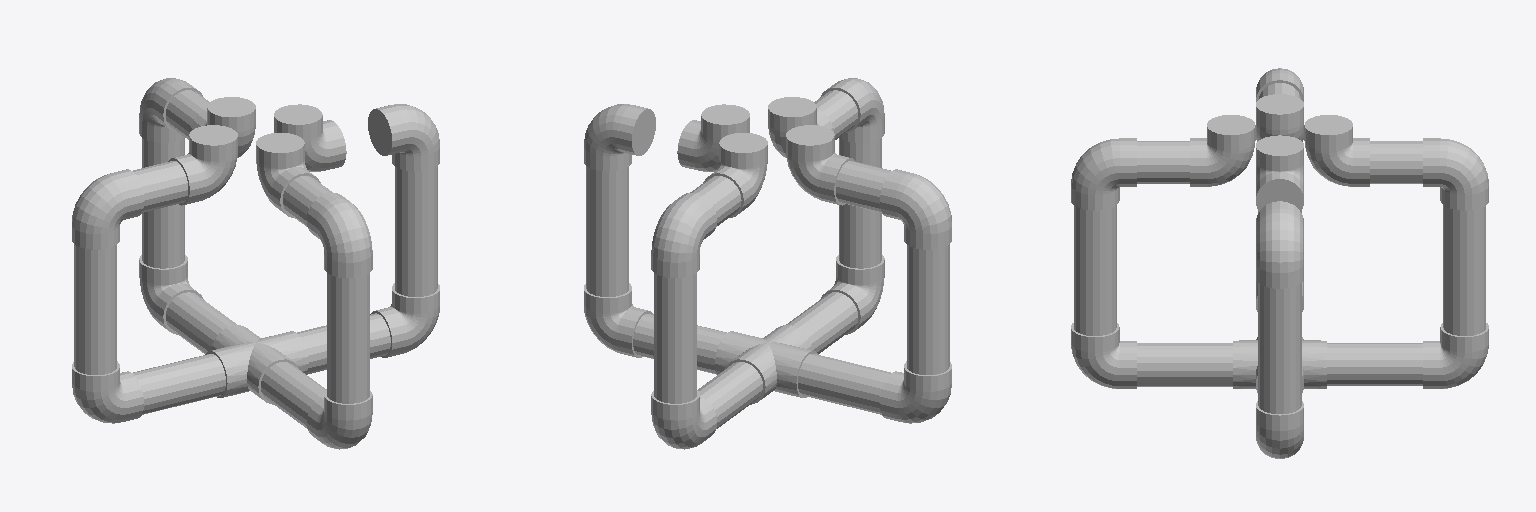
File: Garlic_bez_zabka.obj
3 renders of one model, left to right at view 1: azimuth 30°, elevation 25°; view 2: azimuth 150°, elevation 25°; view 3: azimuth 270°, elevation 25°, orthographic.
Visible parts, largest first — view 1: Bryła1; view 2: Bryła1; view 3: Bryła1.
Part boxes in pixels (x1,y1,x2,y2): Bryła1: (72,78,439,449); Bryła1: (584,78,951,449); Bryła1: (1071,68,1488,458).
Bounding box in the file's own units: 244 × 169 × 244.